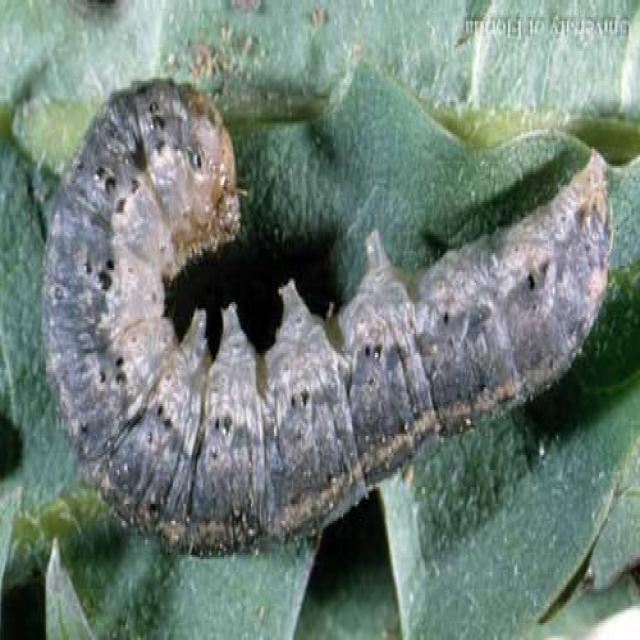black cutworm: (38, 75, 612, 569)
